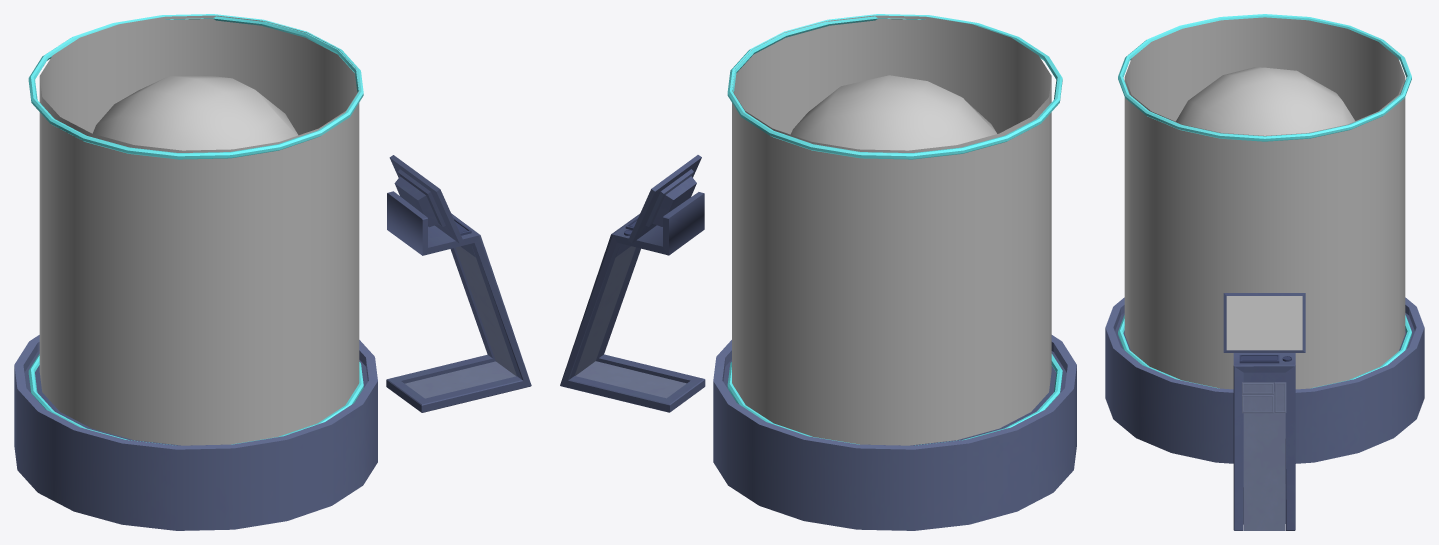
File: datasending.fbx
3 renders of one model, left to right at view 1: azimuth 30°, elevation 25°; view 2: azimuth 150°, elevation 25°; view 3: azimuth 270°, elevation 25°, orthographic. The views are drawn at different scales.
Visible parts, largest first — view 1: pasted__pTorus1, polySurface2735, polySurface2858, UV11:element:pPlatonic1, polySurface2739, polySurface2749; view 2: pasted__pTorus1, polySurface2735, polySurface2858, UV11:element:pPlatonic1, polySurface2739, polySurface2749; view 3: pasted__pTorus1, polySurface2735, polySurface2858, UV11:element:pPlatonic1, polySurface2747, polySurface2739, polySurface2749.
Boxes of the visible parts, box(x1,y1,x2,y2) form: pasted__pTorus1: box(39, 15, 359, 445); polySurface2735: box(14, 335, 377, 530); polySurface2858: box(386, 155, 531, 412); UV11:element:pPlatonic1: box(93, 75, 298, 150); polySurface2739: box(28, 14, 363, 159); polySurface2749: box(28, 354, 363, 445); pasted__pTorus1: box(732, 15, 1051, 445); polySurface2735: box(713, 335, 1076, 530); polySurface2858: box(560, 155, 705, 412); UV11:element:pPlatonic1: box(790, 75, 996, 150); polySurface2739: box(727, 14, 1062, 159); polySurface2749: box(727, 354, 1062, 445); pasted__pTorus1: box(1124, 17, 1405, 389); polySurface2735: box(1105, 297, 1424, 463); polySurface2858: box(1223, 293, 1305, 530); UV11:element:pPlatonic1: box(1176, 67, 1354, 135); polySurface2747: box(1226, 296, 1302, 350); polySurface2739: box(1118, 14, 1411, 141); polySurface2749: box(1118, 315, 1411, 388).
Bounding box in the file's own units: 47.93 × 35.61 × 31.87.
